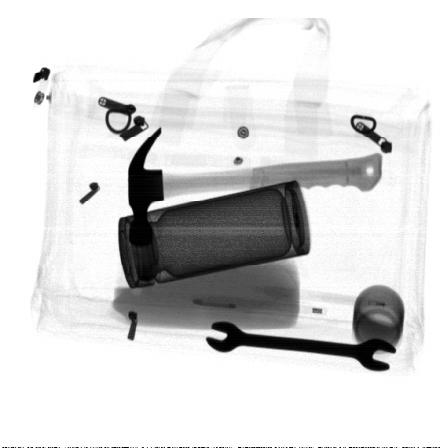Hammer: (128, 126, 383, 246)
Wrench: (204, 320, 396, 372)
